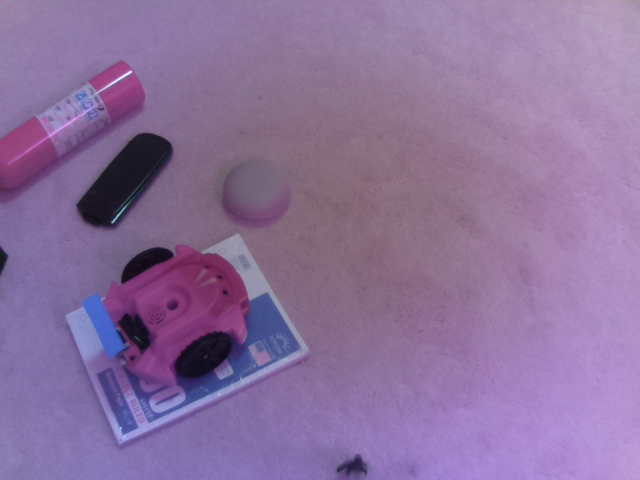board: (81, 292, 133, 360)
chassis: (80, 243, 253, 388)
